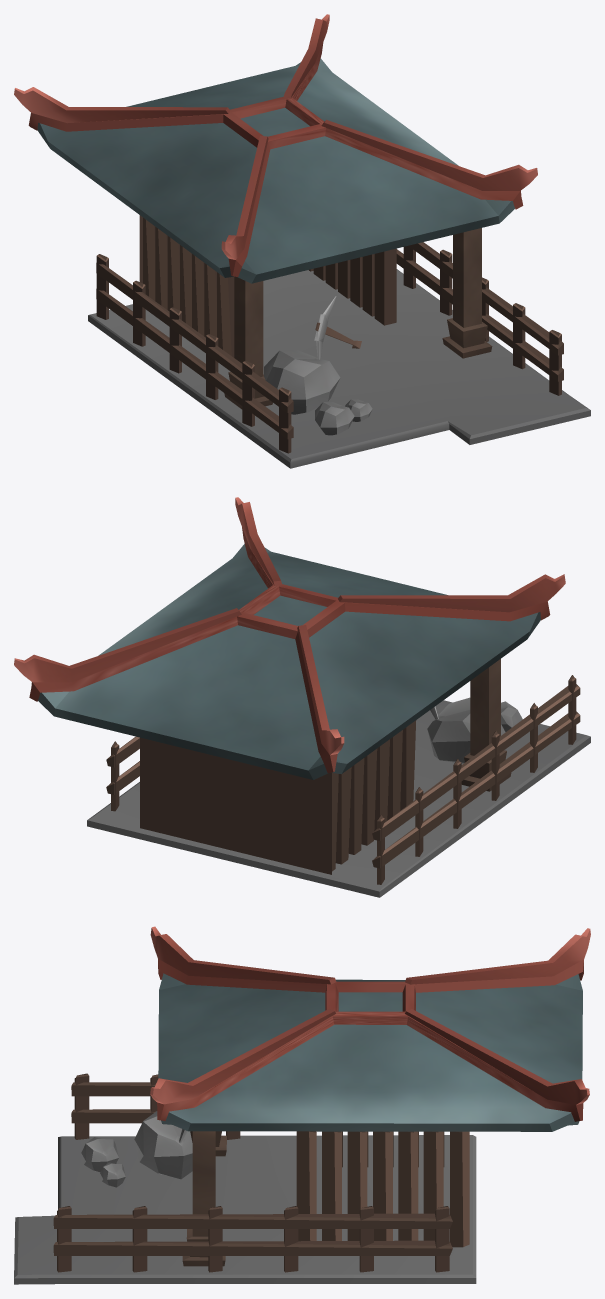
Rendered from mine_1lvl.fbx.
3 views of the same model, one above another, from view 1: azimuth 30°, elevation 25°; view 2: azimuth 150°, elevation 25°; view 3: azimuth 270°, elevation 25° (orthographic). The views are drawn at different scales.
Parts seen in each view (by area): view 1: mine_1lvl; view 2: mine_1lvl; view 3: mine_1lvl.
Boxes of the visible parts, x1,y1,x2,y2 form: mine_1lvl: (14,14,590,468); mine_1lvl: (14,497,590,897); mine_1lvl: (14,926,590,1284).
Size of the model in its own units: 4.51 by 2.86 by 6.86.
